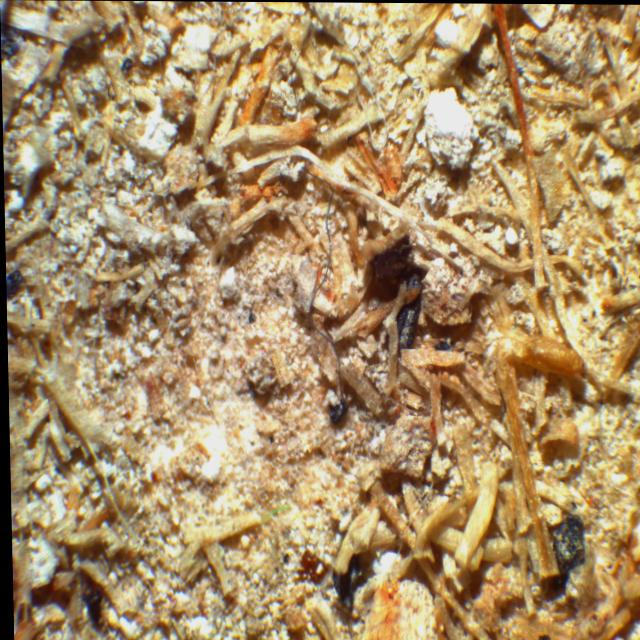microplastic: (301, 168, 345, 406)
